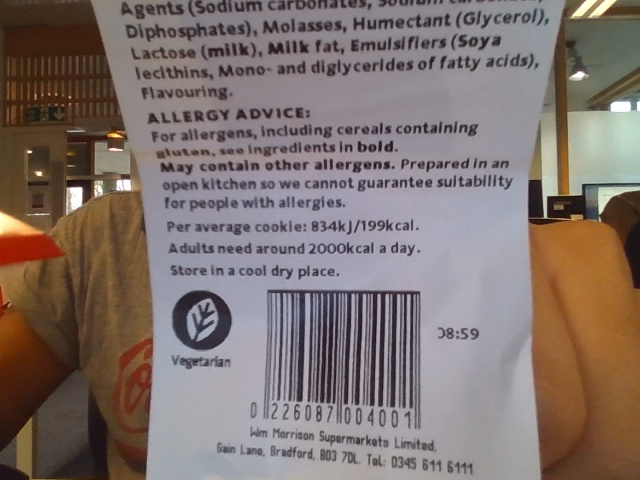milk: (267, 38, 311, 56), (205, 43, 250, 60)
